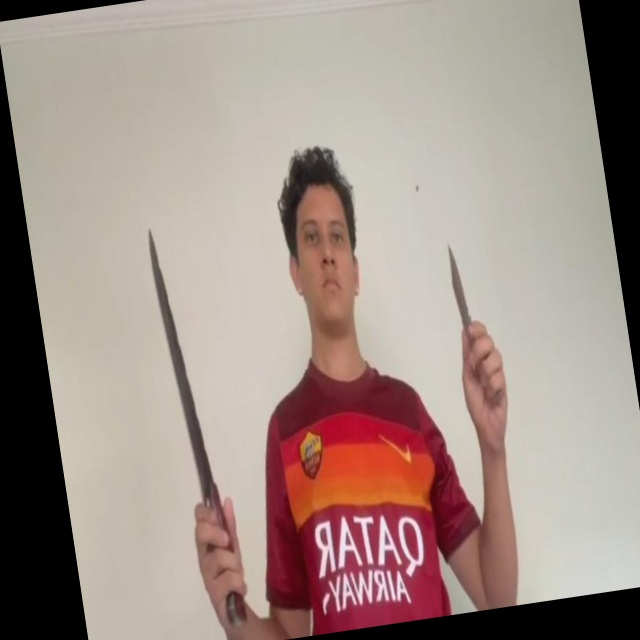Sharp-Object: (143, 223, 215, 500), (445, 244, 468, 316)
